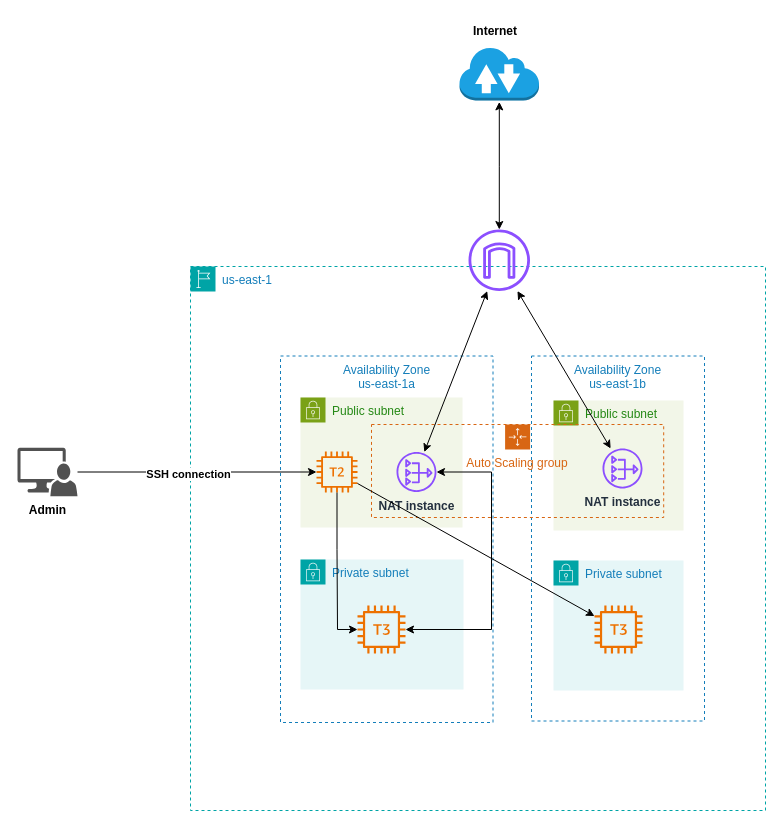
The diagram is 783 pixels wide and 828 high, and some of its shapes have lost their labels. Here are the shapes that lost their labels. From the top down, the centre of each, then its label:
At point 499,259: "Internet Gateway".
At point 336,471: "Bastion".
At point 381,629: "EC2 insance".
At point 618,629: "EC2 instance".
